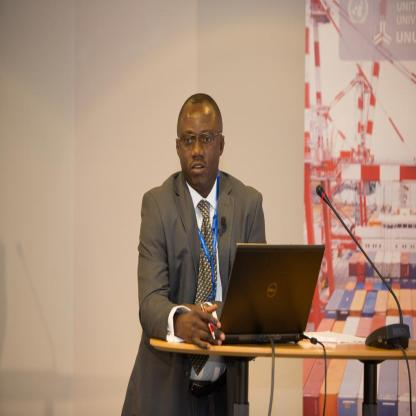board: (226, 248, 338, 348)
